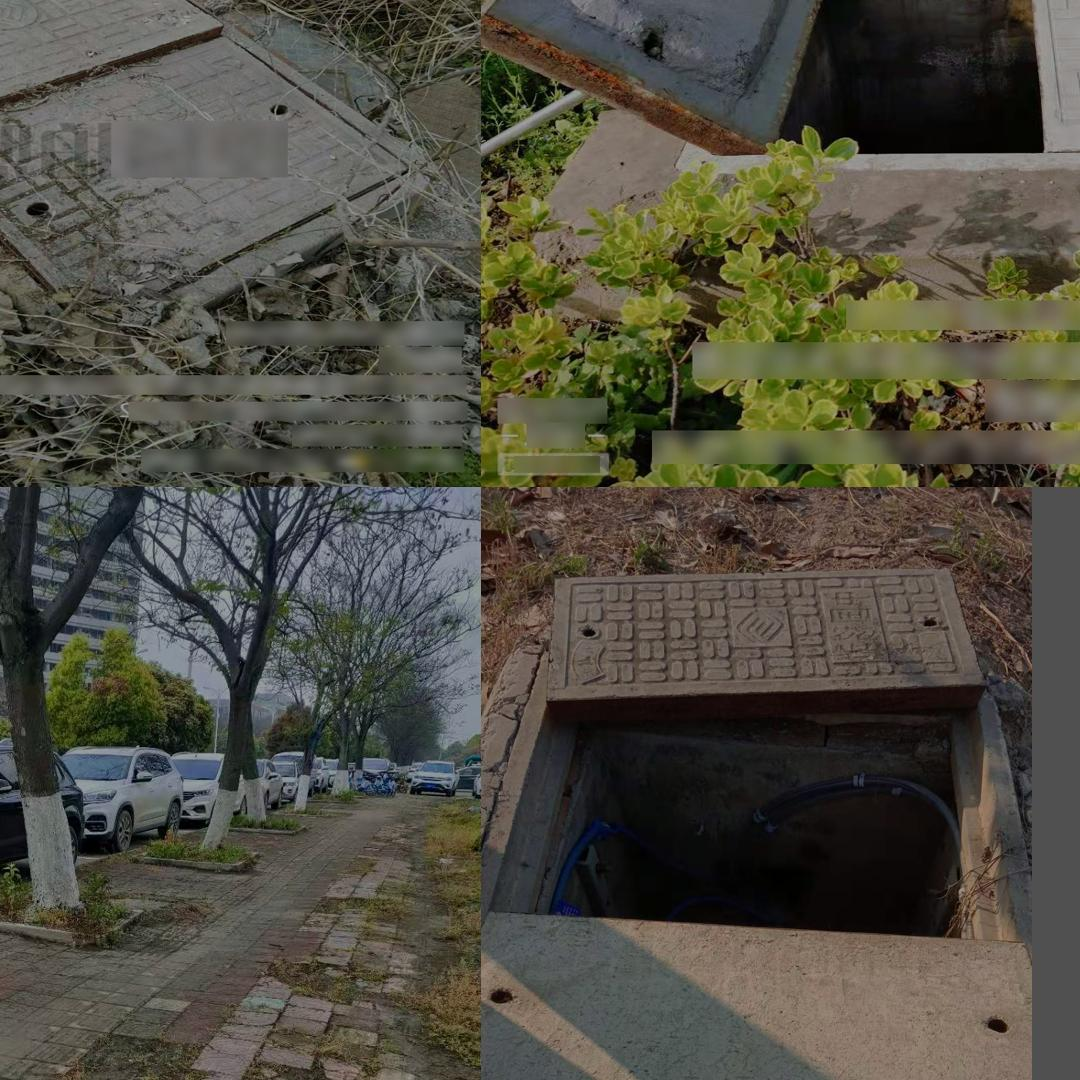uncovered: (481, 560, 1029, 1080), (0, 0, 435, 329), (481, 0, 1080, 175)
